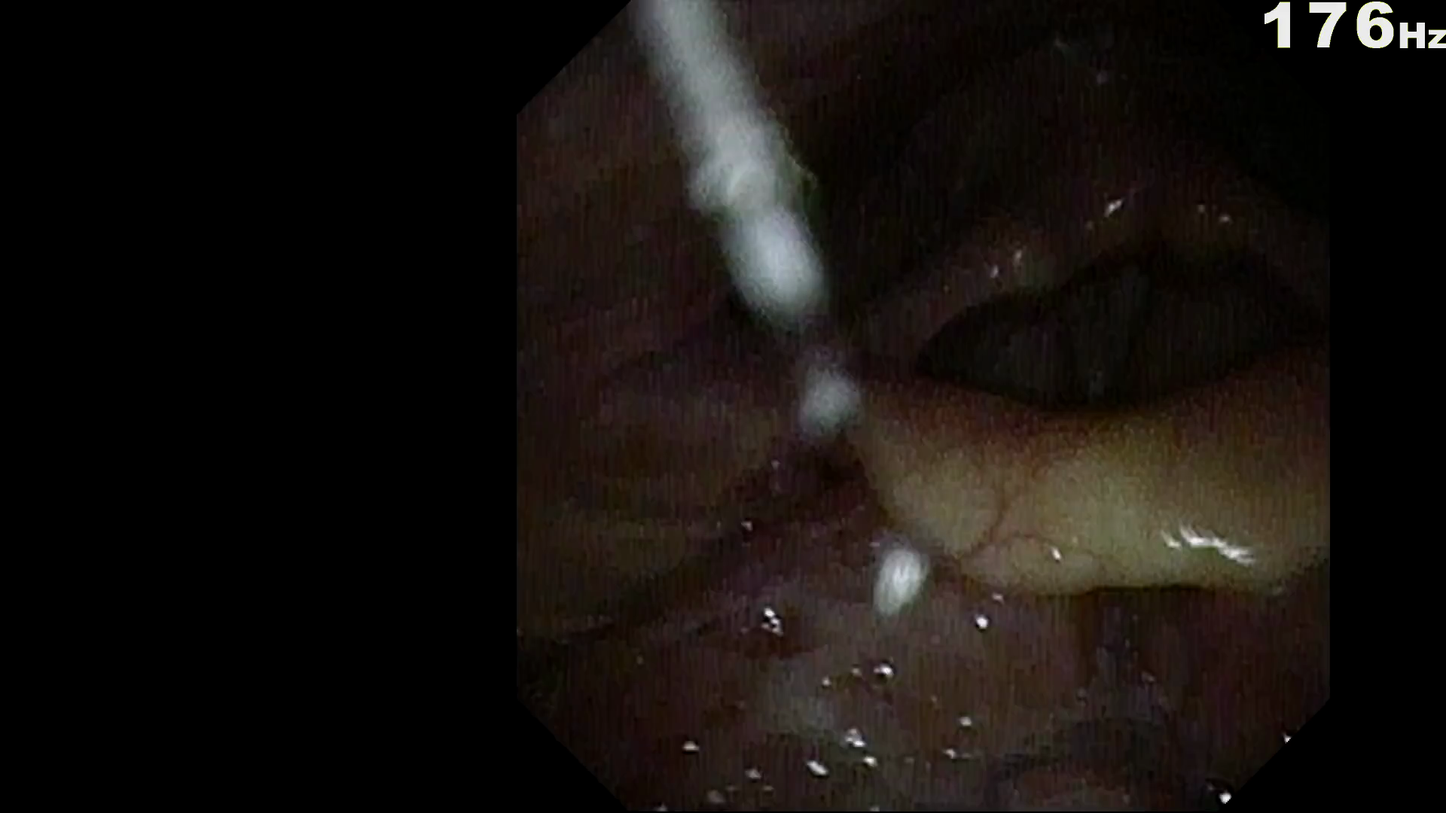epiglottis: (821, 391, 1314, 628)
trachea: (1023, 291, 1170, 445)
